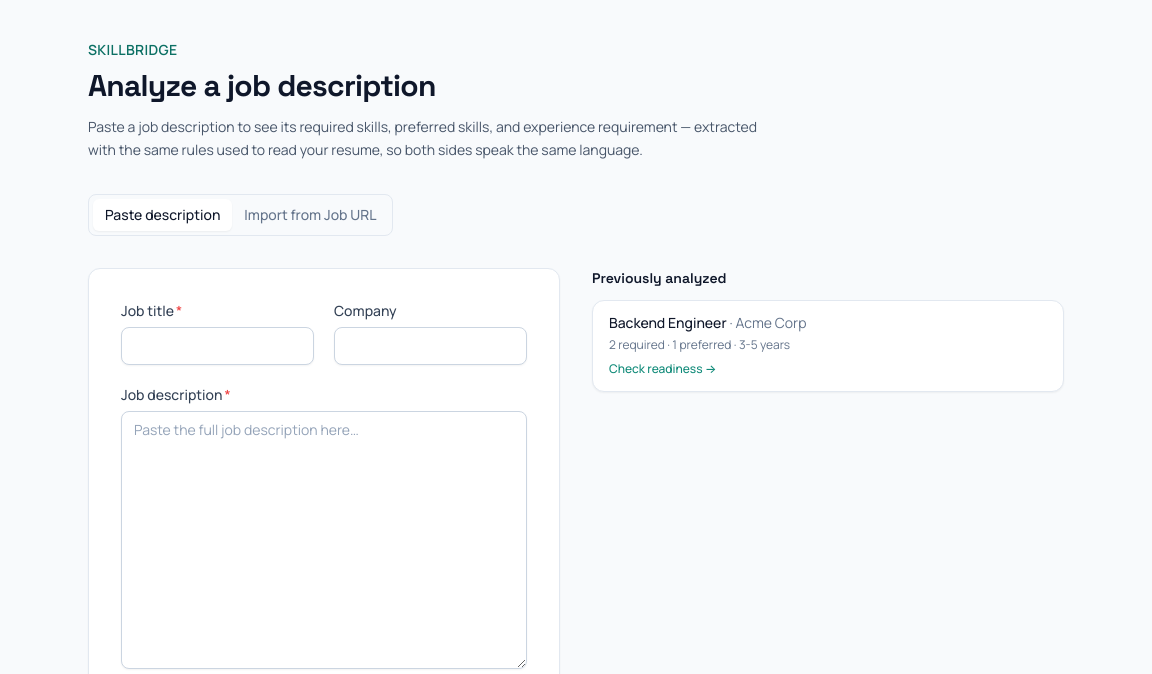
Test: AnalyzeJobPage › loads a previously saved analysis when clicked
Click the text "Backend Engineer": (668,322) left=609, top=312, right=727, bottom=332
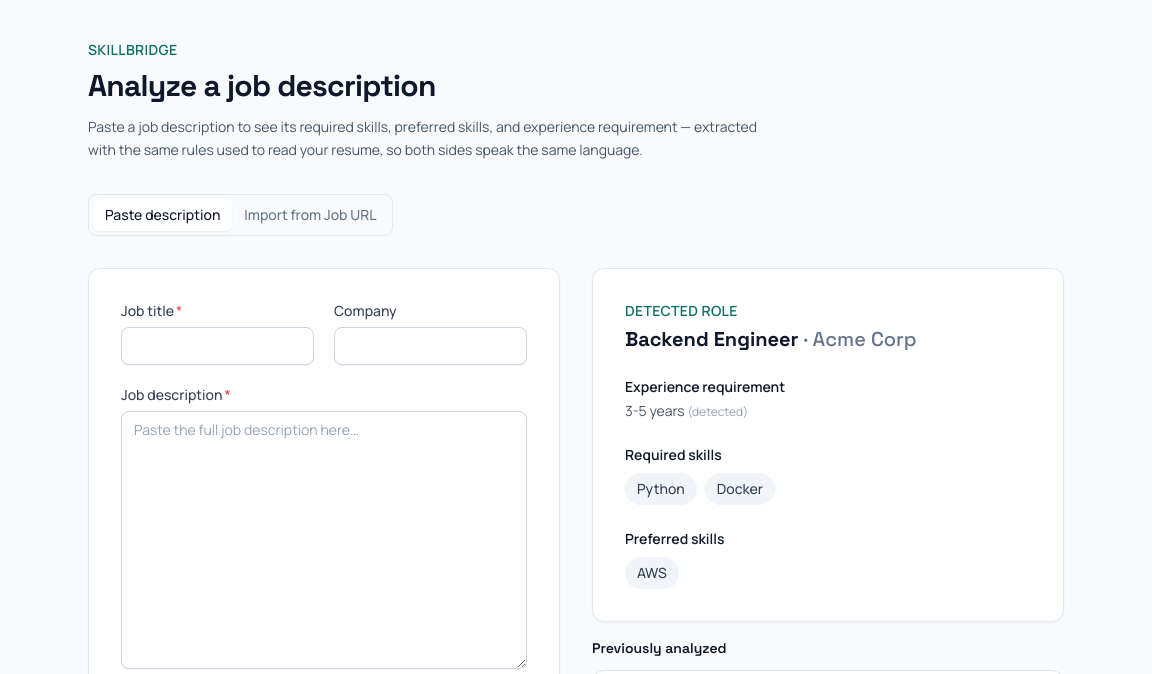
Now the text "Detected role" is shown, box left=625, top=300, right=738, bottom=320
